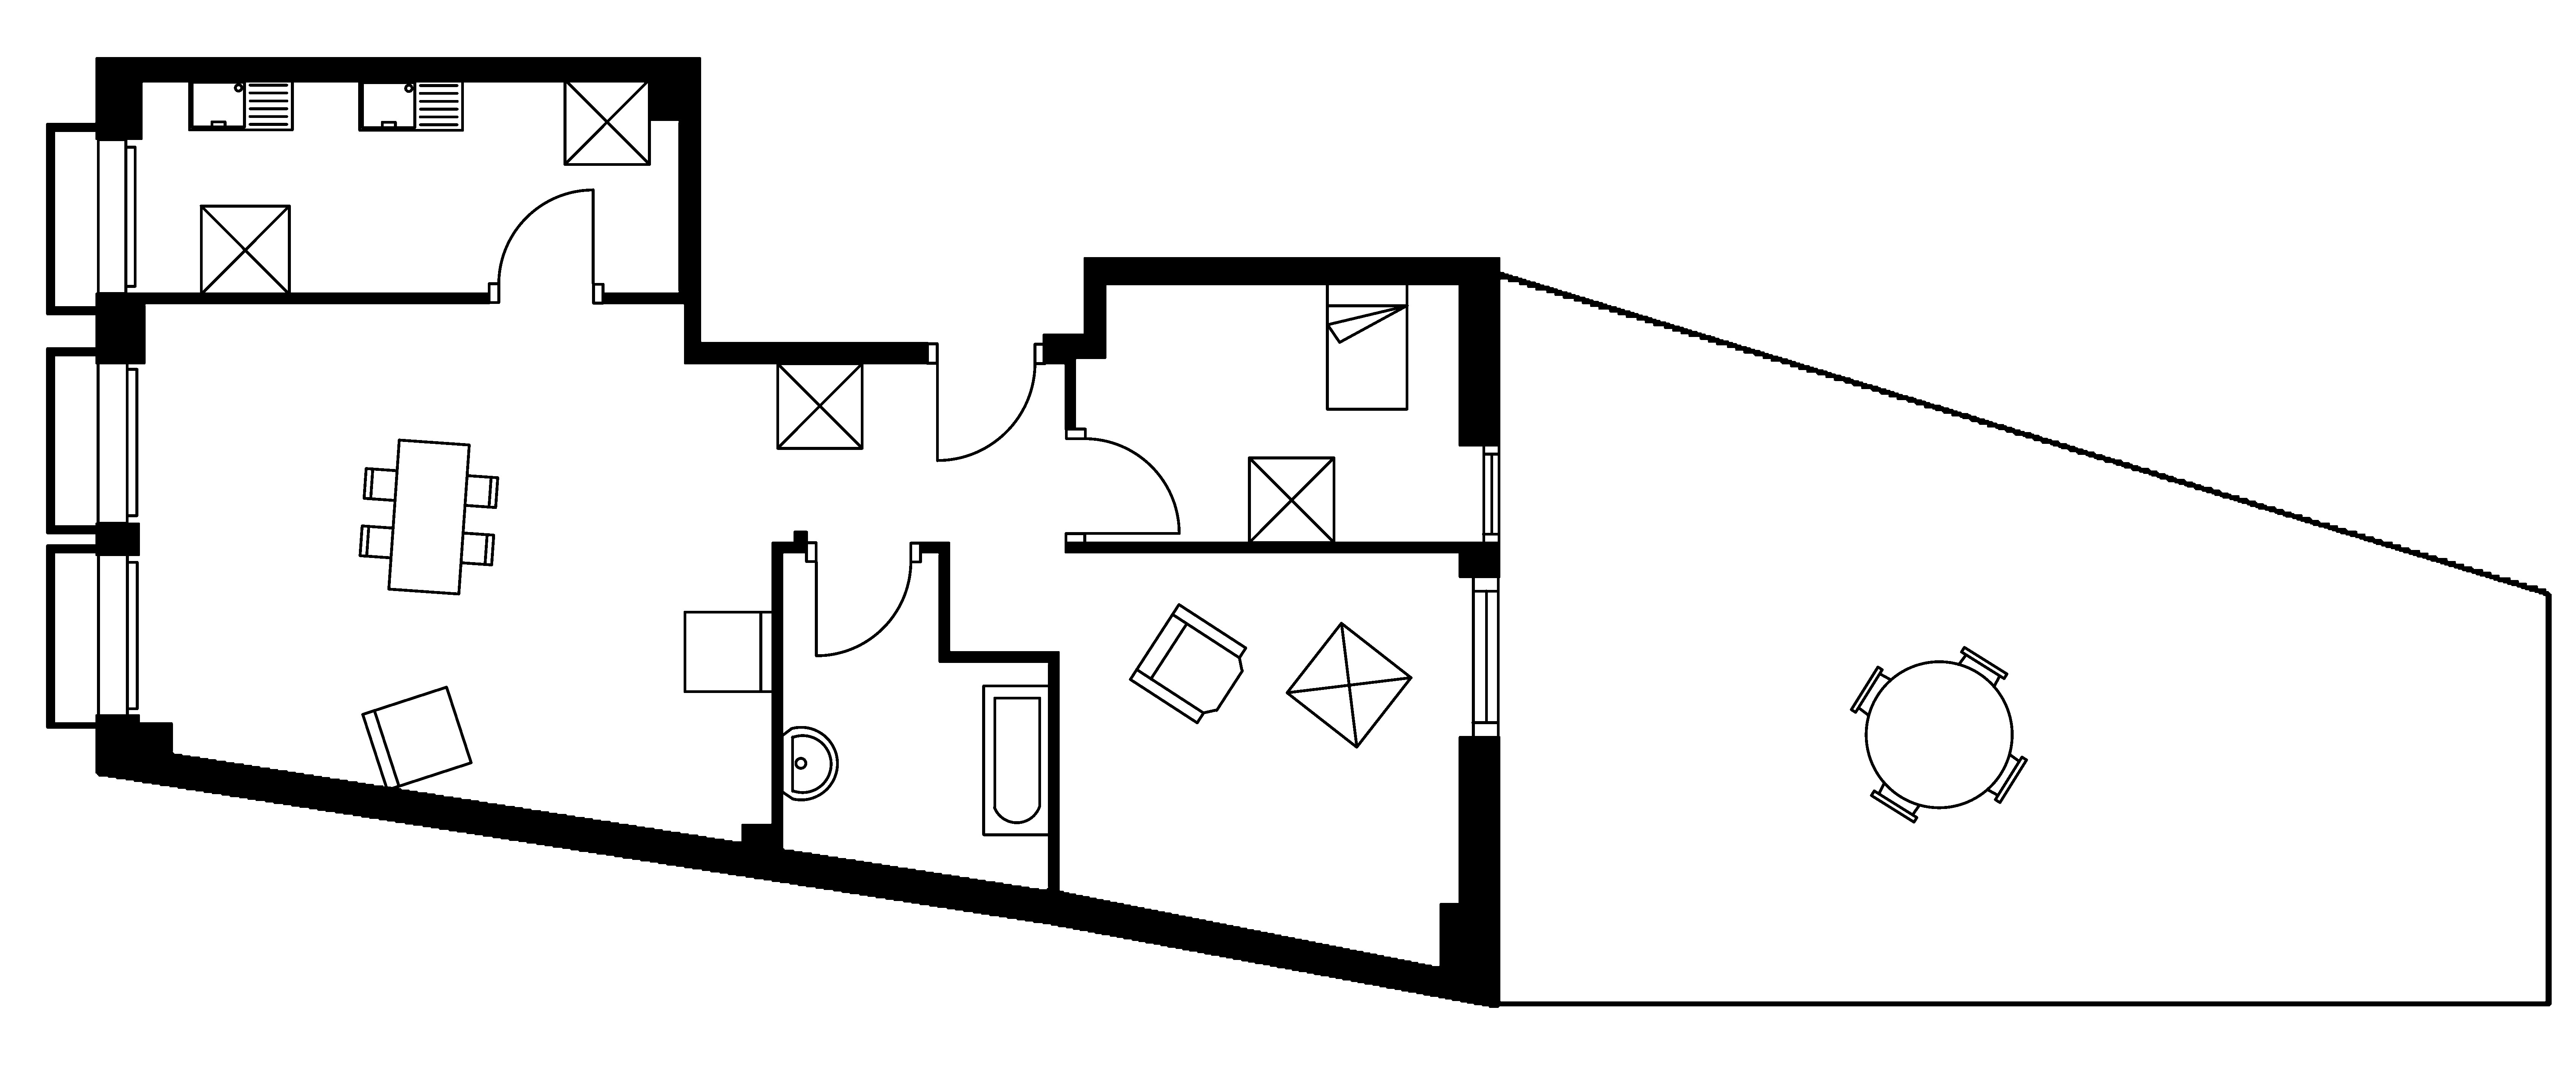armchair: (1129, 602, 1247, 725)
bed: (1324, 281, 1408, 411)
coffee_table: (1285, 622, 1413, 748), (199, 204, 291, 296), (562, 77, 651, 166), (775, 362, 864, 451), (1247, 456, 1336, 544)
dining_table: (358, 437, 499, 595)
round_table: (1848, 645, 2027, 824)
sink: (358, 77, 465, 132), (187, 77, 294, 132)
small_sink: (780, 725, 838, 801)
small_sofa: (360, 686, 473, 793), (682, 610, 774, 694)
tub: (981, 684, 1051, 837)
